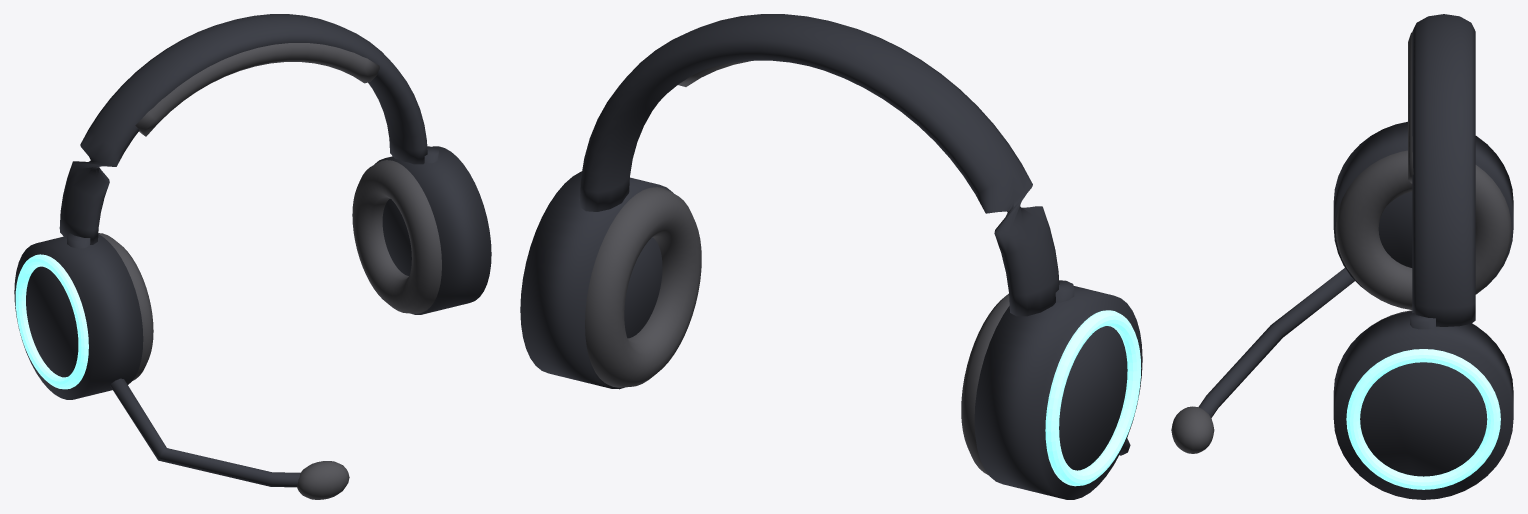
The model's file is acc_headset_female.glb.
The picture shows the model from 3 angles, left to right: view 1: azimuth 30°, elevation 25°; view 2: azimuth 150°, elevation 25°; view 3: azimuth 270°, elevation 25°; orthographic projection. The views are drawn at different scales.
Parts seen in each view (by area): view 1: headset; view 2: headset; view 3: headset.
Boxes of the visible parts, <box> form: headset: <box>14,14,491,499</box>; headset: <box>520,14,1142,499</box>; headset: <box>1171,14,1513,499</box>.
Bounding box in the file's own units: 0.271 × 0.243 × 0.175.
